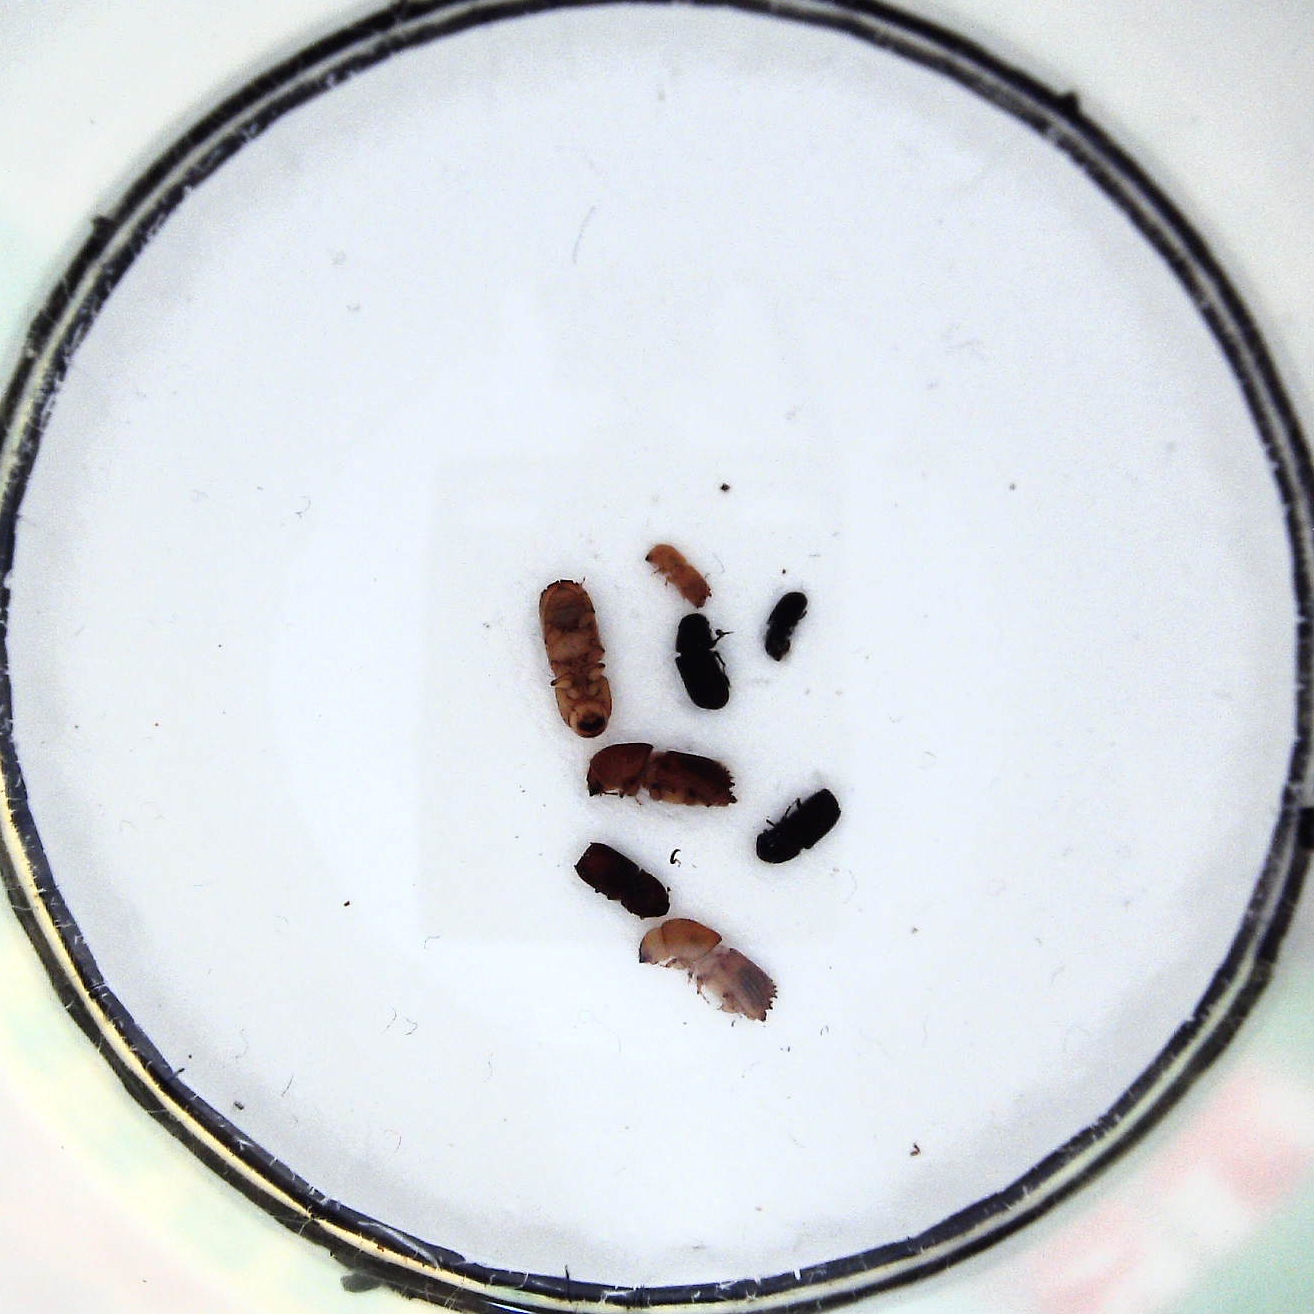Boerner: (637, 917, 777, 1028), (538, 579, 615, 738), (581, 742, 738, 813)
Linnaeus: (576, 844, 671, 921), (753, 786, 840, 866)
acuminatus: (645, 541, 711, 610)
armandi: (673, 612, 736, 714)
coleoptera: (760, 590, 807, 664)
